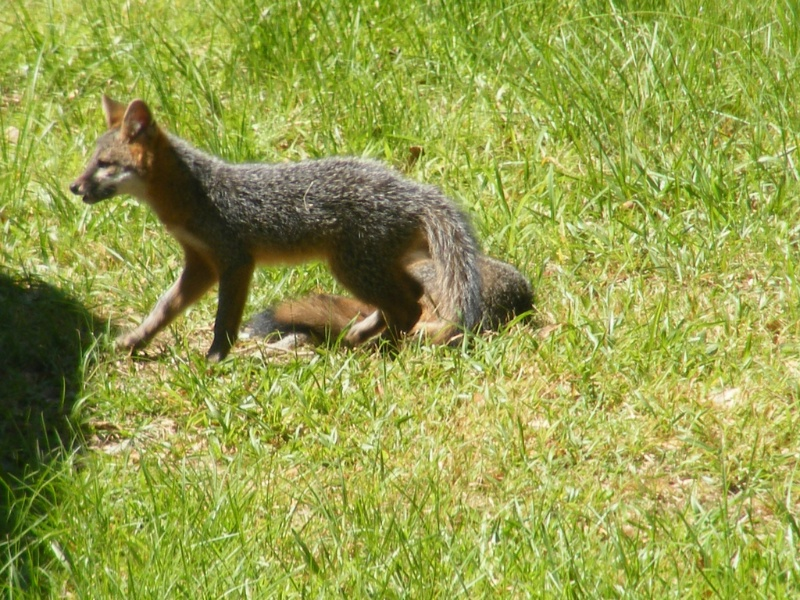fox: (66, 92, 560, 369)
